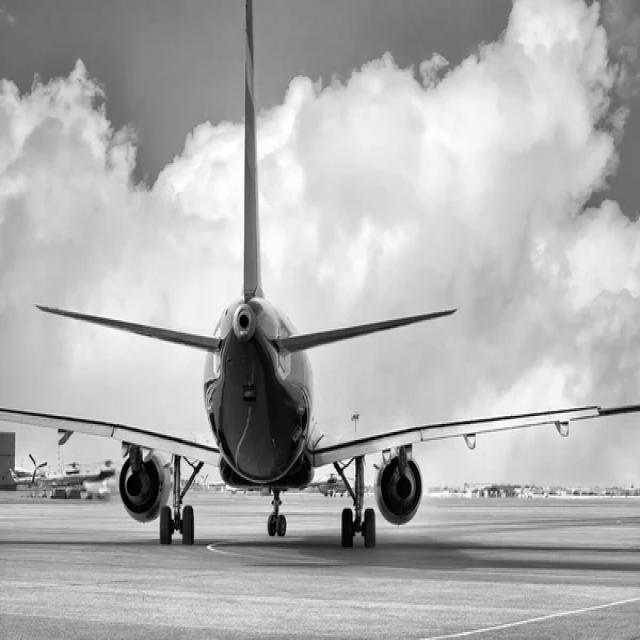Aircraft: (22, 61, 615, 556)
